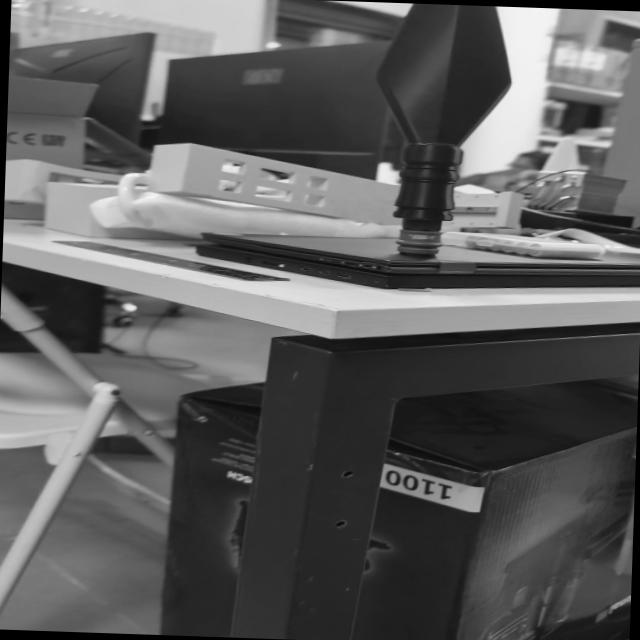base: (394, 226, 442, 258)
